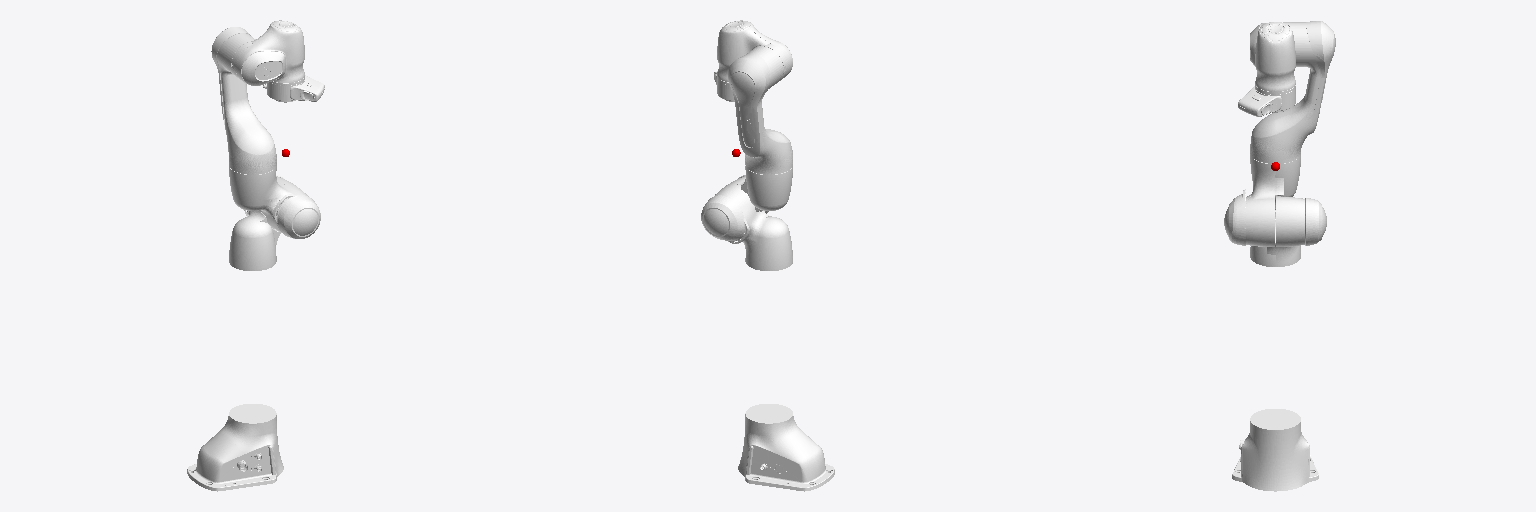
robot.urdf — panda:
<?xml version="1.0" ?>
<!-- =================================================================================== -->
<!-- |    This document was autogenerated by xacro from panda_arm_hand.urdf.xacro      | -->
<!-- |    EDITING THIS FILE BY HAND IS NOT RECOMMENDED                                 | -->
<!-- =================================================================================== -->
<robot name="panda" xmlns:xacro="http://www.ros.org/wiki/xacro">
  <link name="base_link">
    <inertial>
      <mass value="2.92"/>
      <origin xyz="-0.025566 -2.88e-05 0.057332" rpy="0 0 0"/>
      <inertia ixx="0.00782229414331" ixy="-1.56191622996e-05" ixz="-0.00126005738123" iyy="0.0109027971813" iyz="1.08233858202e-05" izz="0.0102355503949"/>
    </inertial>
    <visual>
      <geometry>
        <mesh filename="../meshes/graphics/link0.obj"/>
      </geometry>
      <material name="panda_white"/>
    </visual>
    <collision>
      <geometry>
        <mesh filename="../meshes/graphics/link0.obj"/>
      </geometry>
      <material name="panda_white"/>
    </collision>
  </link>
  <link name="panda_link1">
    <inertial>
      <mass value="2.74"/>
      <origin xyz="0 -0.0324958 -0.0675818" rpy="0 0 0"/>
      <inertia ixx="0.0180416958283" ixy="0.0" ixz="0.0" iyy="0.0159136071891" iyz="0.0046758424612" izz="0.00620690827127"/>
    </inertial>
    <visual>
      <geometry>
        <mesh filename="../meshes/graphics/link1.obj"/>
      </geometry>
      <material name="panda_white"/>
    </visual>
    <collision>
      <geometry>
        <mesh filename="../meshes/graphics/link1.obj"/>
      </geometry>
      <material name="panda_white"/>
    </collision>
  </link>
  <joint name="panda_joint1" type="revolute">
    <safety_controller k_position="100.0" k_velocity="40.0" soft_lower_limit="-2.8973" soft_upper_limit="2.8973"/>
    <origin rpy="0 0 0" xyz="0 0 0.333"/>
    <parent link="base_link"/>
    <child link="panda_link1"/>
    <axis xyz="0 0 1"/>
    <limit effort="87" lower="-2.9671" upper="2.9671" velocity="2.1750"/>
  </joint>
  <link name="panda_link2">
    <inertial>
      <mass value="2.74"/>
      <origin xyz="0 -0.06861 0.0322285" rpy="0 0 0"/>
      <inertia ixx="0.0182856182281" ixy="0.0" ixz="0.0" iyy="0.00621358421175" iyz="-0.00472844221905" izz="0.0161514346309"/>
    </inertial>
    <visual>
      <geometry>
        <mesh filename="../meshes/graphics/link2.obj"/>
      </geometry>
      <material name="panda_white"/>
    </visual>
    <collision>
      <geometry>
        <mesh filename="../meshes/graphics/link2.obj"/>
      </geometry>
      <material name="panda_white"/>
    </collision>
  </link>
  <joint name="panda_joint2" type="revolute">
    <safety_controller k_position="100.0" k_velocity="40.0" soft_lower_limit="-1.7628" soft_upper_limit="1.7628"/>
    <origin rpy="-1.57079632679 0 0" xyz="0 0 0"/>
    <parent link="panda_link1"/>
    <child link="panda_link2"/>
    <axis xyz="0 0 1"/>
    <limit effort="87" lower="-1.8326" upper="1.8326" velocity="2.1750"/>
  </joint>
  <link name="panda_link3">
    <inertial>
      <mass value="2.38"/>
      <origin xyz="0.0469893 0.0316374 -0.031704" rpy="0 0 0"/>
      <inertia ixx="0.00771376630908" ixy="-0.00248490625138" ixz="-0.00332147581033" iyy="0.00989108008727" iyz="-0.00217796151484" izz="0.00811723558464"/>
    </inertial>
    <visual>
      <geometry>
        <mesh filename="../meshes/graphics/link3.obj"/>
      </geometry>
      <material name="panda_white"/>
    </visual>
    <collision>
      <geometry>
        <mesh filename="../meshes/graphics/link3.obj"/>
      </geometry>
      <material name="panda_white"/>
    </collision>
  </link>
  <joint name="panda_joint3" type="revolute">
    <safety_controller k_position="100.0" k_velocity="40.0" soft_lower_limit="-2.8973" soft_upper_limit="2.8973"/>
    <origin rpy="1.57079632679 0 0" xyz="0 -0.316 0"/>
    <parent link="panda_link2"/>
    <child link="panda_link3"/>
    <axis xyz="0 0 1"/>
    <limit effort="87" lower="-2.9671" upper="2.9671" velocity="2.1750"/>
  </joint>
  <link name="panda_link4">
    <inertial>
      <mass value="2.38"/>
      <origin xyz="-0.0360446 0.0336853 0.031882" rpy="0 0 0"/>
      <inertia ixx="0.00799663881132" ixy="0.00347095570217" ixz="-0.00241222942995" iyy="0.00825390705278" iyz="0.00235774044121" izz="0.0102515004345"/>
    </inertial>
    <visual>
      <geometry>
        <mesh filename="../meshes/graphics/link4.obj"/>
      </geometry>
      <material name="panda_white"/>
    </visual>
    <collision>
      <geometry>
        <mesh filename="../meshes/graphics/link4.obj"/>
      </geometry>
      <material name="panda_white"/>
    </collision>
  </link>
  <joint name="panda_joint4" type="revolute">
    <safety_controller k_position="100.0" k_velocity="40.0" soft_lower_limit="-3.0718" soft_upper_limit="-0.0698"/>
    <origin rpy="1.57079632679 0 0" xyz="0.0825 0 0"/>
    <parent link="panda_link3"/>
    <child link="panda_link4"/>
    <axis xyz="0 0 1"/>
    <limit effort="87" lower="-3.1416" upper="0.0" velocity="2.1750"/>
  </joint>
  <link name="panda_link5">
    <inertial>
      <mass value="2.74"/>
      <origin xyz="0 0.0610427 -0.104176" rpy="0 0 0"/>
      <inertia ixx="0.030371374513" ixy="6.50283587108e-07" ixz="-1.05129179916e-05" iyy="0.0288752887402" iyz="-0.00775653445787" izz="0.00444134056164"/>
    </inertial>
    <visual>
      <geometry>
        <mesh filename="../meshes/graphics/link5.obj"/>
      </geometry>
      <material name="panda_white"/>
    </visual>
    <collision>
      <geometry>
        <mesh filename="../meshes/graphics/link5.obj"/>
      </geometry>
      <material name="panda_white"/>
    </collision>
  </link>
  <joint name="panda_joint5" type="revolute">
    <safety_controller k_position="100.0" k_velocity="40.0" soft_lower_limit="-2.8973" soft_upper_limit="2.8973"/>
    <origin rpy="-1.57079632679 0 0" xyz="-0.0825 0.384 0"/>
    <parent link="panda_link4"/>
    <child link="panda_link5"/>
    <axis xyz="0 0 1"/>
    <limit effort="12" lower="-2.9671" upper="2.9671" velocity="2.6100"/>
  </joint>
  <link name="panda_link6">
    <inertial>
      <mass value="1.55"/>
      <origin xyz="0.0510509 0.009108 0.0106343" rpy="0 0 0"/>
      <inertia ixx="0.00303336450376" ixy="-0.000437276865508" ixz="0.000629257294877" iyy="0.00404479911567" iyz="0.000130472021025" izz="0.00558234286039"/>
    </inertial>
    <visual>
      <geometry>
        <mesh filename="../meshes/graphics/link6.obj"/>
      </geometry>
#      <material name="panda_white"/>
    </visual>
    <collision>
      <geometry>
        <mesh filename="../meshes/graphics/link6.obj"/>
      </geometry>
      <material name="panda_white"/>
    </collision>
  </link>
  <joint name="panda_joint6" type="revolute">
    <safety_controller k_position="100.0" k_velocity="40.0" soft_lower_limit="-0.0175" soft_upper_limit="3.7525"/>
    <origin rpy="1.57079632679 0 0" xyz="0 0 0"/>
    <parent link="panda_link5"/>
    <child link="panda_link6"/>
    <axis xyz="0 0 1"/>
    <limit effort="12" lower="-0.0873" upper="3.8223" velocity="2.6100"/>
  </joint>
  <link name="panda_link7">
    <inertial>
      <mass value="0.54"/>
      <origin xyz="0.0109695 0.0107965 0.0650411" rpy="0 0 0"/>
      <inertia ixx="0.000888868887021" ixy="-0.00012239074652" ixz="3.98699829666e-05" iyy="0.000888001373233" iyz="-9.33825115206e-05" izz="0.0007176834609"/>
    </inertial>
    <visual>
      <geometry>
        <mesh filename="../meshes/graphics/link7.obj"/>
      </geometry>
      <material name="panda_white"/>
    </visual>
    <collision>
      <geometry>
        <mesh filename="../meshes/graphics/link7.obj"/>
      </geometry>
      <material name="panda_white"/>
    </collision>
  </link>
  <joint name="panda_joint7" type="revolute">
    <safety_controller k_position="100.0" k_velocity="40.0" soft_lower_limit="-2.8973" soft_upper_limit="2.8973"/>
    <origin rpy="1.57079632679 0 0" xyz="0.088 0 0"/>
    <parent link="panda_link6"/>
    <child link="panda_link7"/>
    <axis xyz="0 0 1"/>
    <limit effort="12" lower="-6.29" upper="6.29" velocity="2.6100"/>
  </joint>

  <link name="panda_link8"/>

  <joint name="panda_joint8" type="fixed">
    <origin rpy="0 0 0" xyz="0 0 0.107"/>
    <parent link="panda_link7"/>
    <child link="panda_link8"/>
    <axis xyz="0 0 0"/>
  </joint>

  <!--Dummy joint and link-->
	<link name="_eef_site_link">
    <inertial>
			<origin xyz="0.0 0.0 0.0"/>
      <mass value="0"/>
    <inertia ixx="0"  ixy="0"  ixz="0" iyy="0" iyz="0" izz="0" />
    </inertial>
		<visual name="eef_site">
			<origin xyz="0.0 0.0 0.0"/>
			<geometry>
        <sphere radius="0.01"/>
			</geometry>
      <material name="red"/>
		</visual>
	</link>
	<joint name="_eef_site_joint" type="fixed">
		<origin xyz="0.0 0.0 0.25"/>
		<child link="_eef_site_link"/>
		<parent link="panda_link7"/>
	</joint>

  <transmission name="panda_tran_1">
    <type>transmission_interface/SimpleTransmission</type>
    <joint name="panda_joint1">
      <hardwareInterface>PositionJointInterface</hardwareInterface>
    </joint>
    <actuator name="panda_motor1">
      <hardwareInterface>PositionJointInterface</hardwareInterface>
      <mechanicalReduction>1</mechanicalReduction>
    </actuator>
  </transmission>
  <transmission name="panda_tran_2">
    <type>transmission_interface/SimpleTransmission</type>
    <joint name="panda_joint2">
      <hardwareInterface>PositionJointInterface</hardwareInterface>
    </joint>
    <actuator name="panda_motor2">
      <hardwareInterface>PositionJointInterface</hardwareInterface>
      <mechanicalReduction>1</mechanicalReduction>
    </actuator>
  </transmission>
  <transmission name="panda_tran_3">
    <type>transmission_interface/SimpleTransmission</type>
    <joint name="panda_joint3">
      <hardwareInterface>PositionJointInterface</hardwareInterface>
    </joint>
    <actuator name="panda_motor3">
      <hardwareInterface>PositionJointInterface</hardwareInterface>
      <mechanicalReduction>1</mechanicalReduction>
    </actuator>
  </transmission>
  <transmission name="panda_tran_4">
    <type>transmission_interface/SimpleTransmission</type>
    <joint name="panda_joint4">
      <hardwareInterface>PositionJointInterface</hardwareInterface>
    </joint>
    <actuator name="panda_motor4">
      <hardwareInterface>PositionJointInterface</hardwareInterface>
      <mechanicalReduction>1</mechanicalReduction>
    </actuator>
  </transmission>
  <transmission name="panda_tran_5">
    <type>transmission_interface/SimpleTransmission</type>
    <joint name="panda_joint5">
      <hardwareInterface>PositionJointInterface</hardwareInterface>
    </joint>
    <actuator name="panda_motor5">
      <hardwareInterface>PositionJointInterface</hardwareInterface>
      <mechanicalReduction>1</mechanicalReduction>
    </actuator>
  </transmission>
  <transmission name="panda_tran_6">
    <type>transmission_interface/SimpleTransmission</type>
    <joint name="panda_joint6">
      <hardwareInterface>PositionJointInterface</hardwareInterface>
    </joint>
    <actuator name="panda_motor6">
      <hardwareInterface>PositionJointInterface</hardwareInterface>
      <mechanicalReduction>1</mechanicalReduction>
    </actuator>
  </transmission>
  <transmission name="panda_tran_7">
    <type>transmission_interface/SimpleTransmission</type>
    <joint name="panda_joint7">
      <hardwareInterface>PositionJointInterface</hardwareInterface>
    </joint>
    <actuator name="panda_motor7">
      <hardwareInterface>PositionJointInterface</hardwareInterface>
      <mechanicalReduction>1</mechanicalReduction>
    </actuator>
  </transmission>

<material name="panda_white">
    <color rgba="1. 1. 1. 1."/>
  </material>
  <material name="dark black">
    <color rgba="0.1 0.1 0.1 1.0"/>
  </material>
  <material name="Black">
    <color rgba="0.1 0.1 0.1 1.0"/>
  </material>
  <material name="Gray">
    <color rgba="0.5 0.5 0.5 1.0"/>
  </material>
  <material name="cyan">
    <color rgba="0.25098 0.725490 0.6862745 1.0"/>
  </material>
  <material name="red">
    <color rgba="1.0 0.0 0.0 0.8"/>
  </material>
</robot>

--- Facts derived from the render (not from the file) ---
Views: 3 orthographic renders of the robot side by side, from view 1: azimuth 30°, elevation 25°; view 2: azimuth 150°, elevation 25°; view 3: azimuth 270°, elevation 25°.
Model panda with 10 links and 9 joints (7 revolute, 2 fixed), rooted at base_link, posed all joints at 0.
Links seen in each view (by area): view 1: base_link, panda_link5, panda_link4, panda_link6, panda_link3, panda_link7; view 2: base_link, panda_link5, panda_link3, panda_link6, panda_link4; view 3: panda_link5, base_link, panda_link4, panda_link3, panda_link6, panda_link7.
Link boxes in pixels (x1,y1,x2,y2): base_link: [187, 404, 283, 491]; panda_link5: [211, 27, 276, 174]; panda_link4: [229, 166, 320, 238]; panda_link6: [232, 20, 304, 85]; panda_link3: [229, 175, 295, 270]; panda_link7: [263, 75, 324, 102]; base_link: [738, 404, 834, 491]; panda_link5: [728, 46, 792, 174]; panda_link3: [701, 184, 792, 270]; panda_link6: [717, 20, 792, 81]; panda_link4: [726, 165, 792, 213]; panda_link5: [1250, 21, 1335, 163]; base_link: [1232, 409, 1318, 491]; panda_link4: [1224, 155, 1300, 246]; panda_link3: [1250, 196, 1326, 266]; panda_link6: [1250, 22, 1295, 91]; panda_link7: [1238, 85, 1295, 116].
Bounding box of the posed robot: 0.3234 × 0.241 × 1.11 m (x, y, z).
6 mesh visuals loaded from 8 distinct referenced files (6 OBJ); not drawn: 2 (reference not matched to a file when rendering).